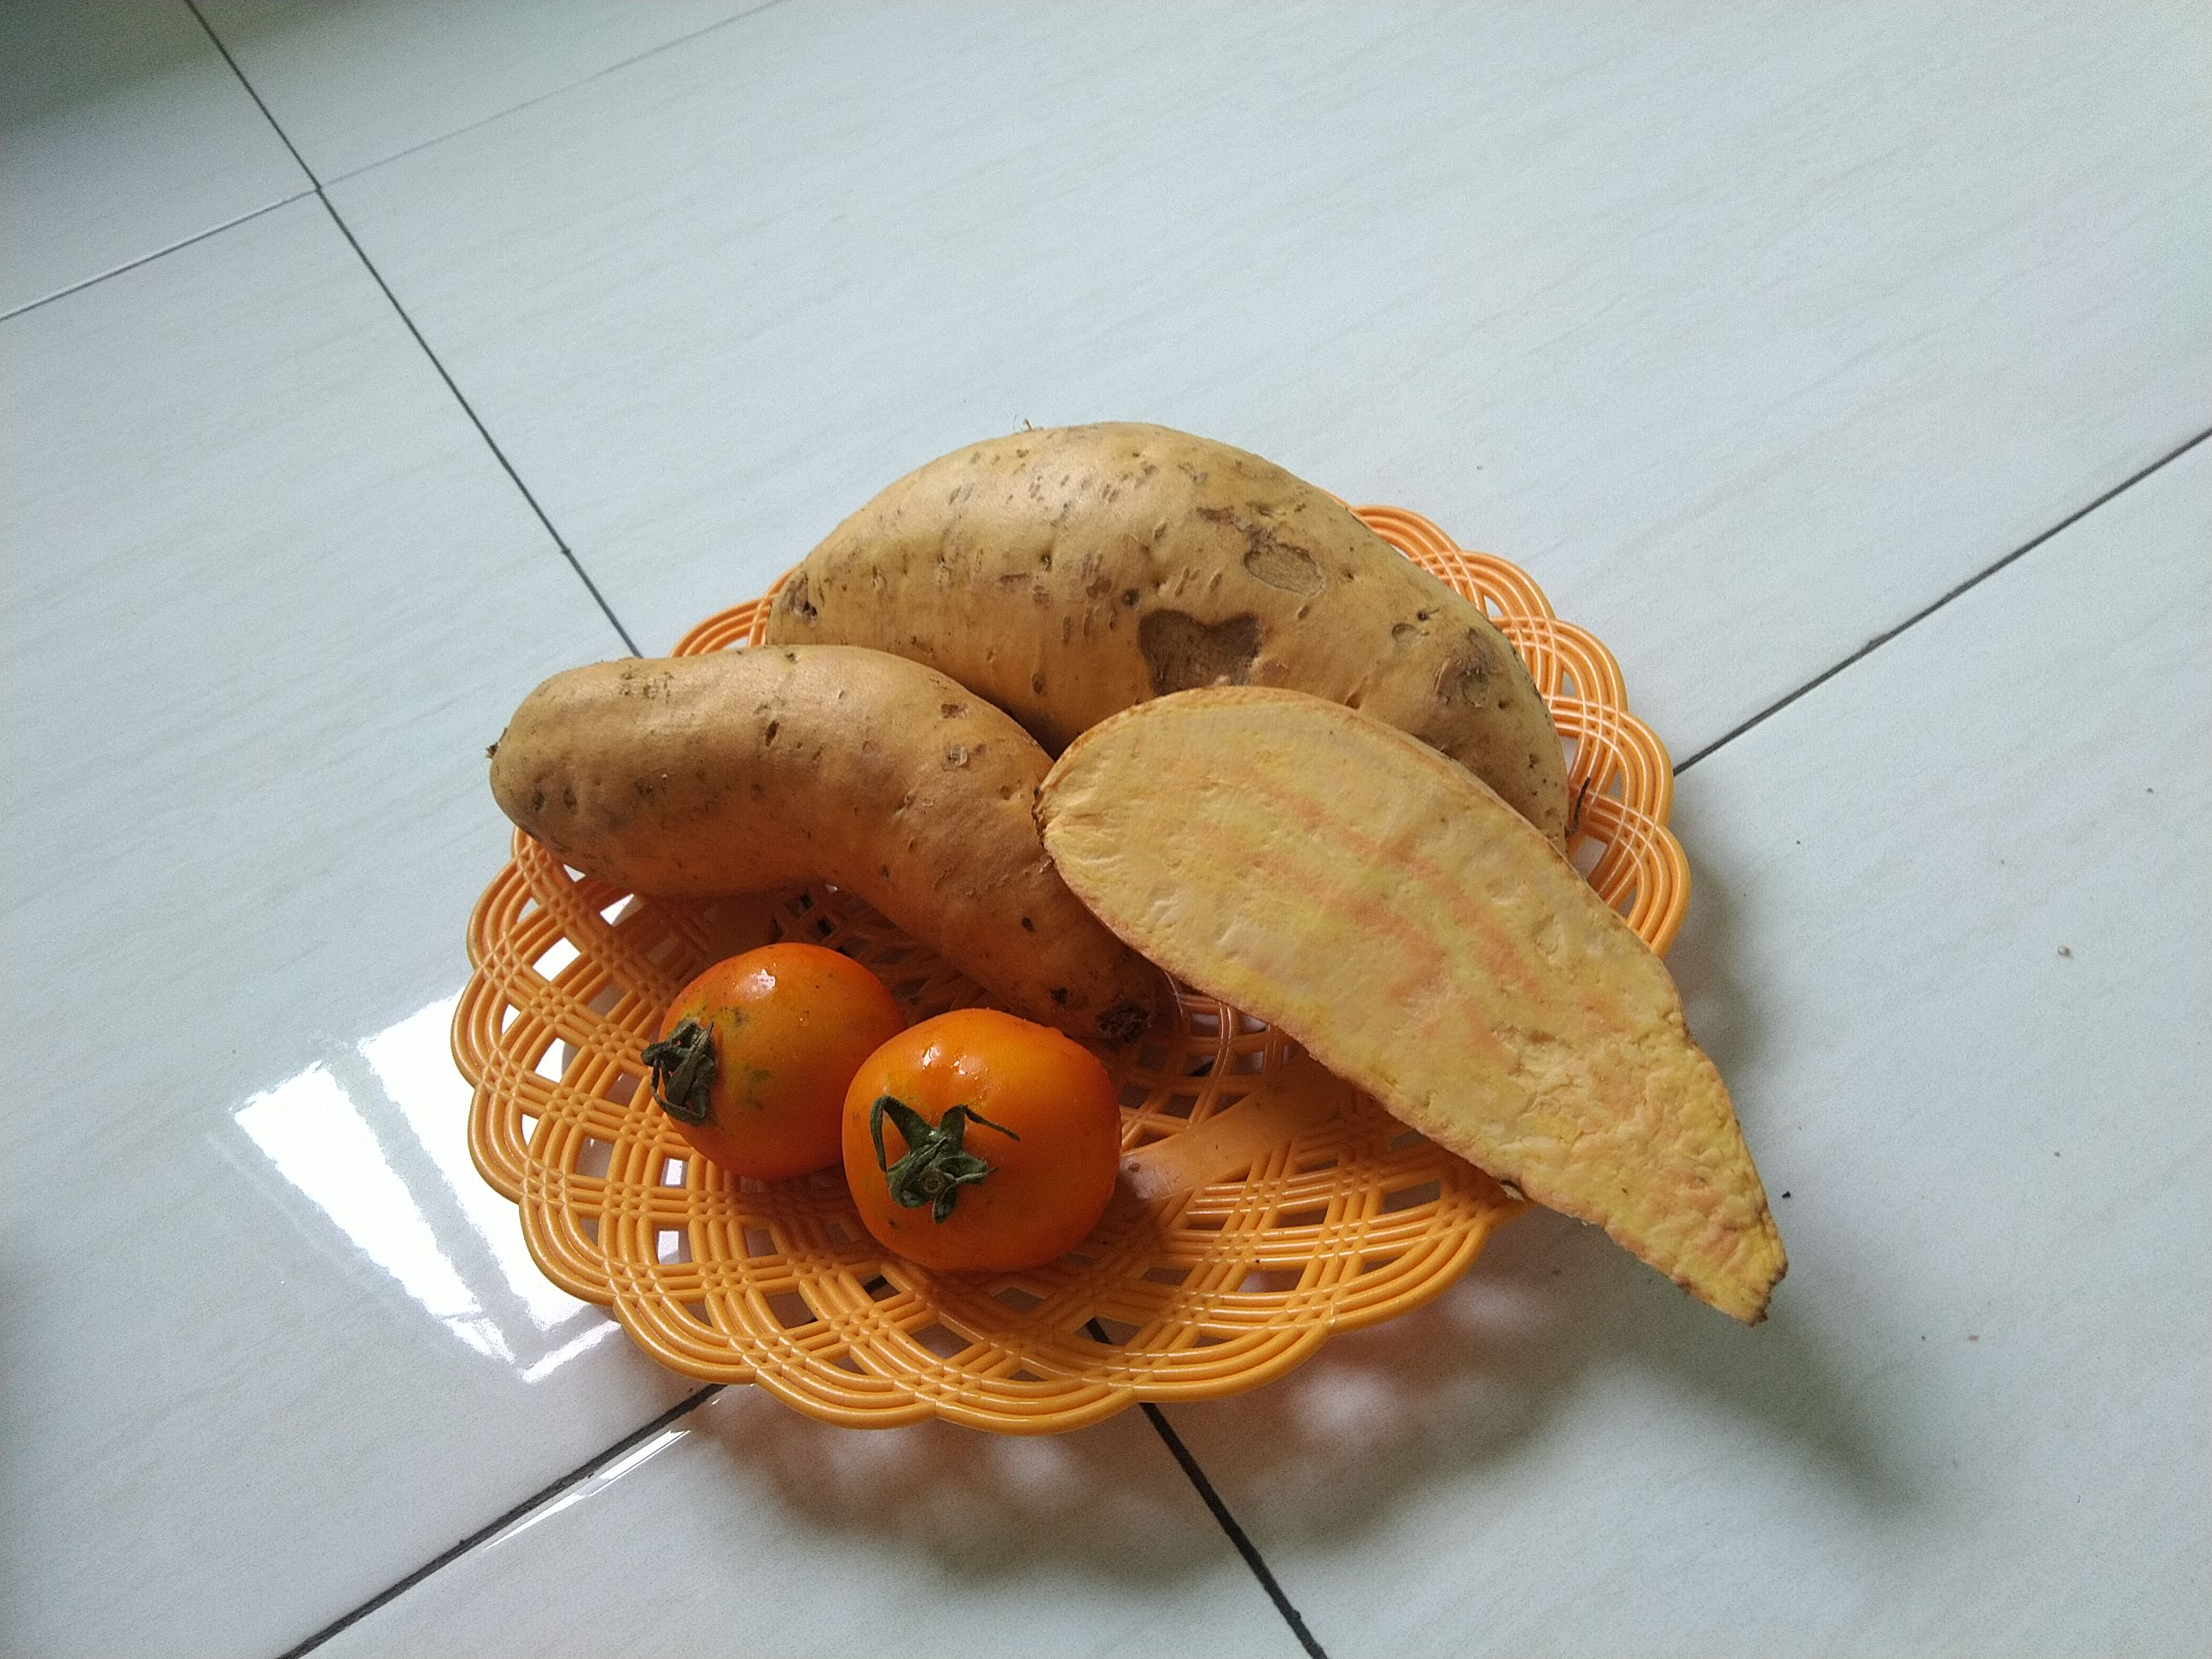ubi cilembu: (1035, 680, 1799, 1338), (754, 422, 1597, 847), (489, 641, 1176, 1025)
